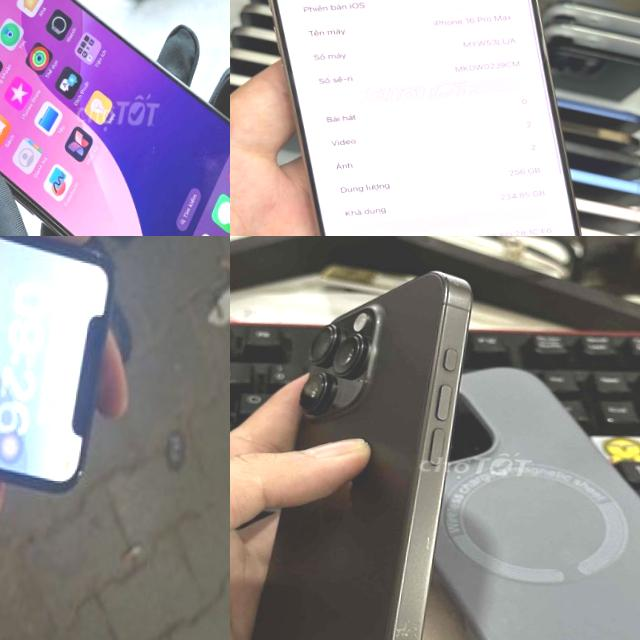gen_16: (251, 273, 471, 640), (270, 0, 579, 236), (0, 0, 230, 236)
gen_x_xs: (0, 236, 133, 541)
